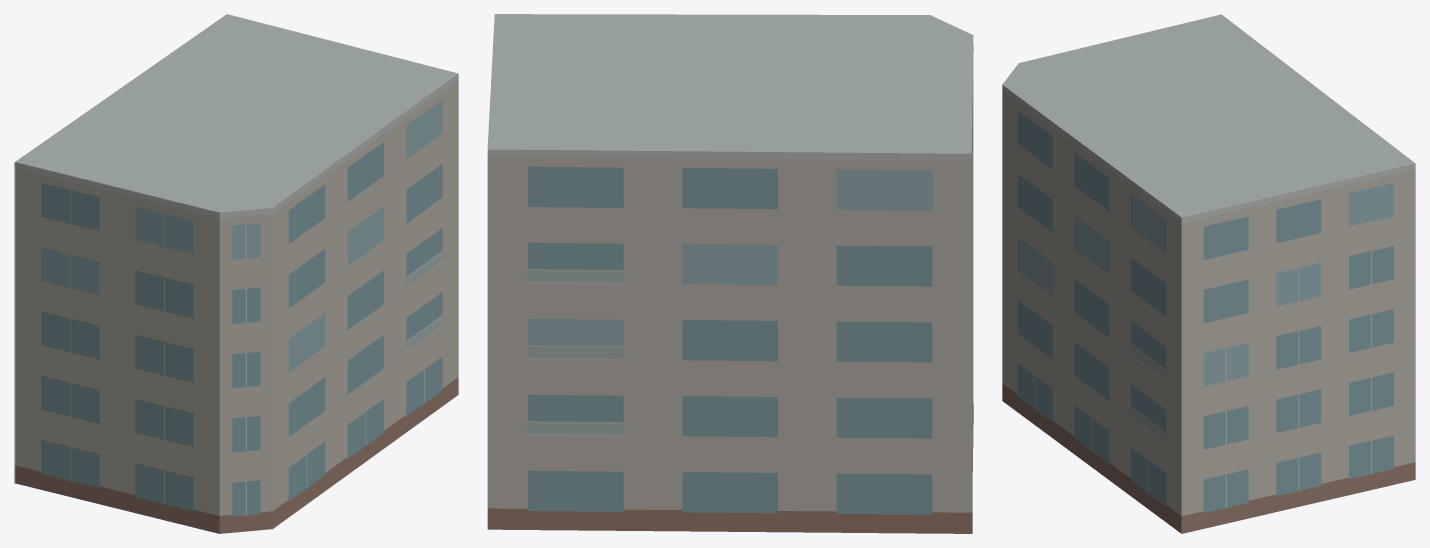
The model's file is survey-upis-32737878.glb.
3 views of the same model, side by side, from view 1: azimuth 30°, elevation 25°; view 2: azimuth 150°, elevation 25°; view 3: azimuth 270°, elevation 25° (orthographic). The views are drawn at different scales.
Parts seen in each view (by area): view 1: survey-upis-32737878.tmp; view 2: survey-upis-32737878.tmp; view 3: survey-upis-32737878.tmp.
Boxes of the visible parts, <box> form: survey-upis-32737878.tmp: <box>14,14,458,533</box>; survey-upis-32737878.tmp: <box>487,14,973,533</box>; survey-upis-32737878.tmp: <box>1002,14,1415,533</box>.
Bounding box in the file's own units: 18.24 × 13.2 × 15.65.
